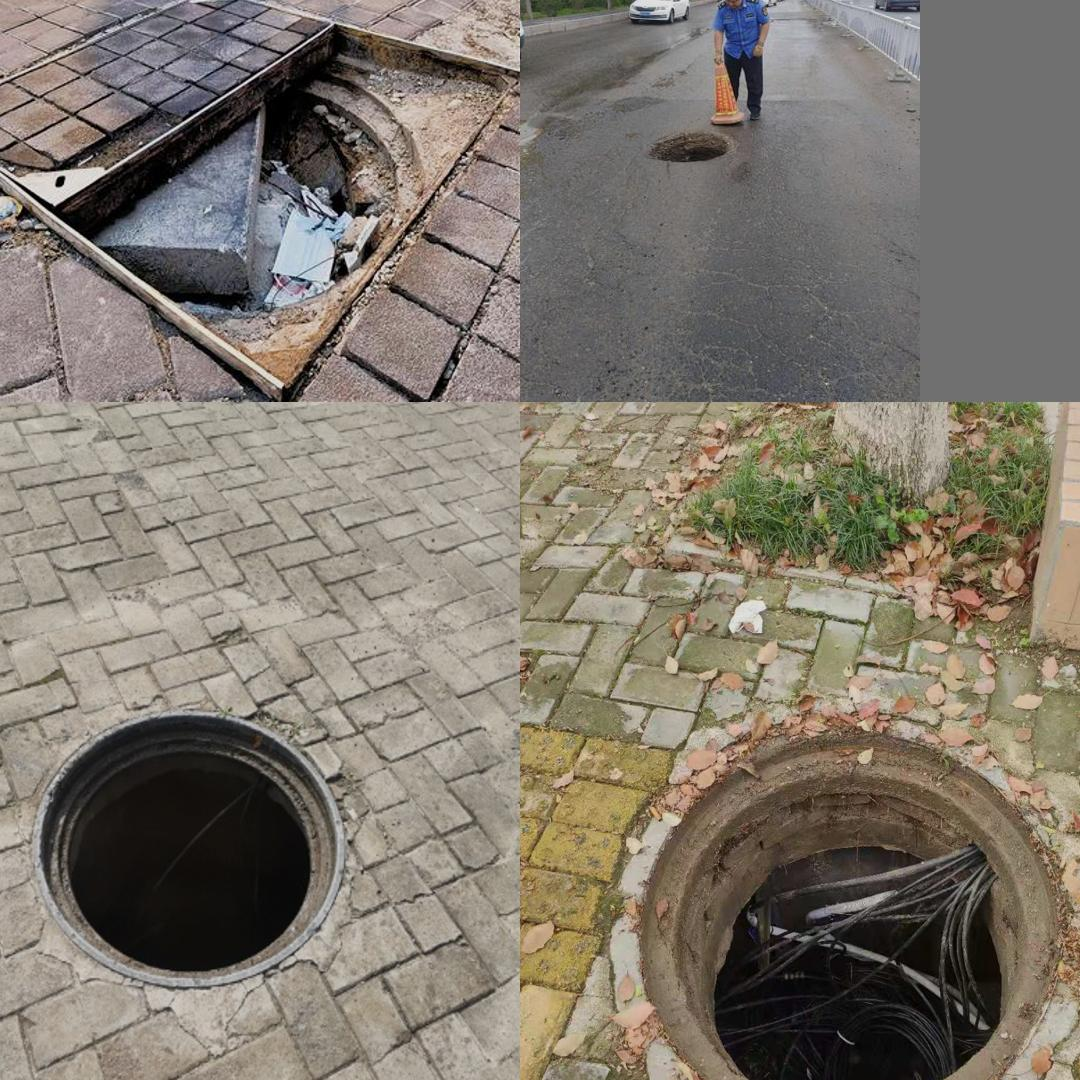lose: (0, 0, 508, 386), (609, 715, 1080, 1080), (33, 708, 346, 984), (632, 122, 742, 169)
